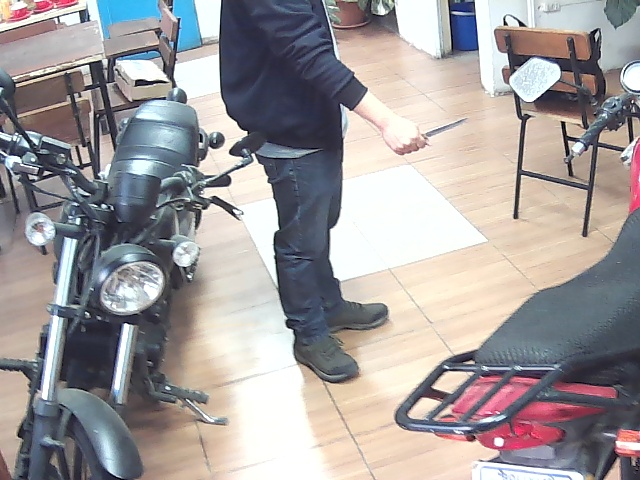cuchillo: (377, 105, 474, 165)
